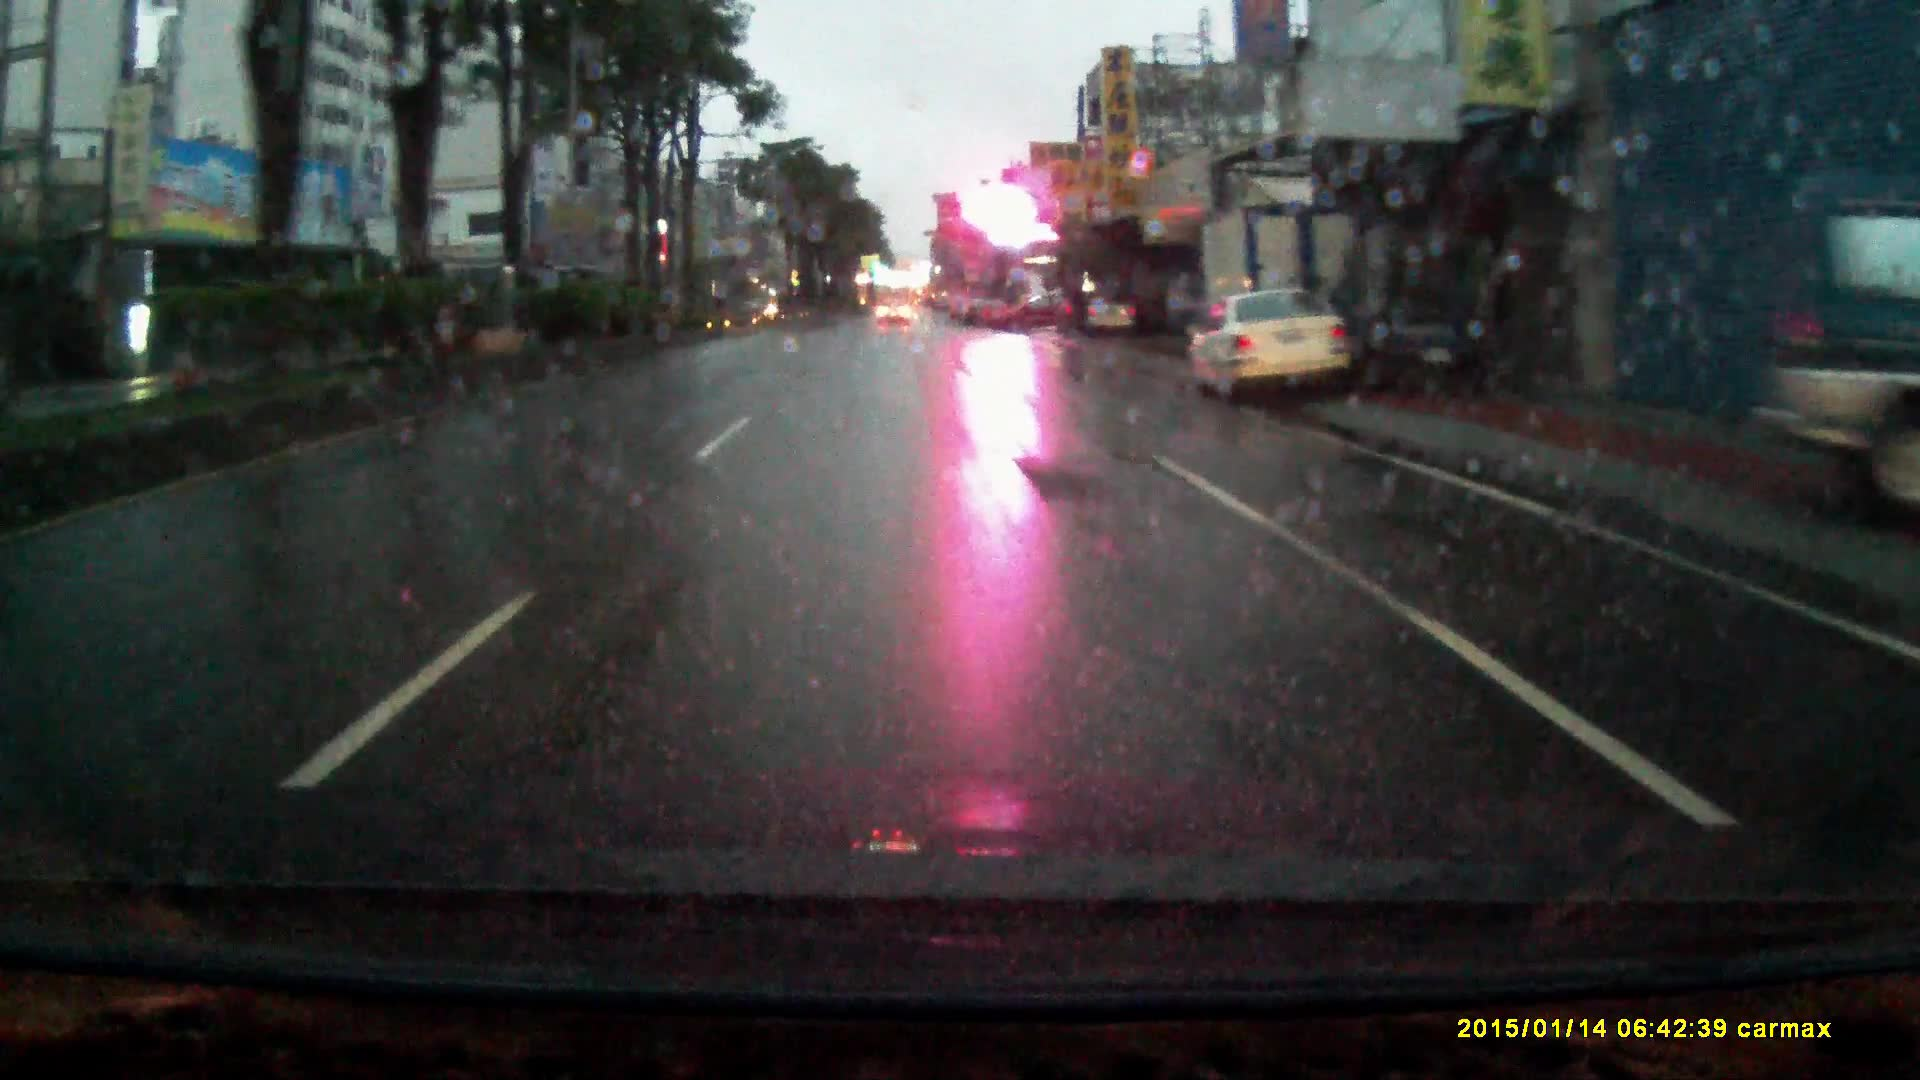vehicle: (1183, 196, 1387, 392), (1371, 218, 1549, 390), (1180, 282, 1361, 404), (989, 287, 1073, 334), (1077, 289, 1139, 338), (878, 297, 913, 328)
